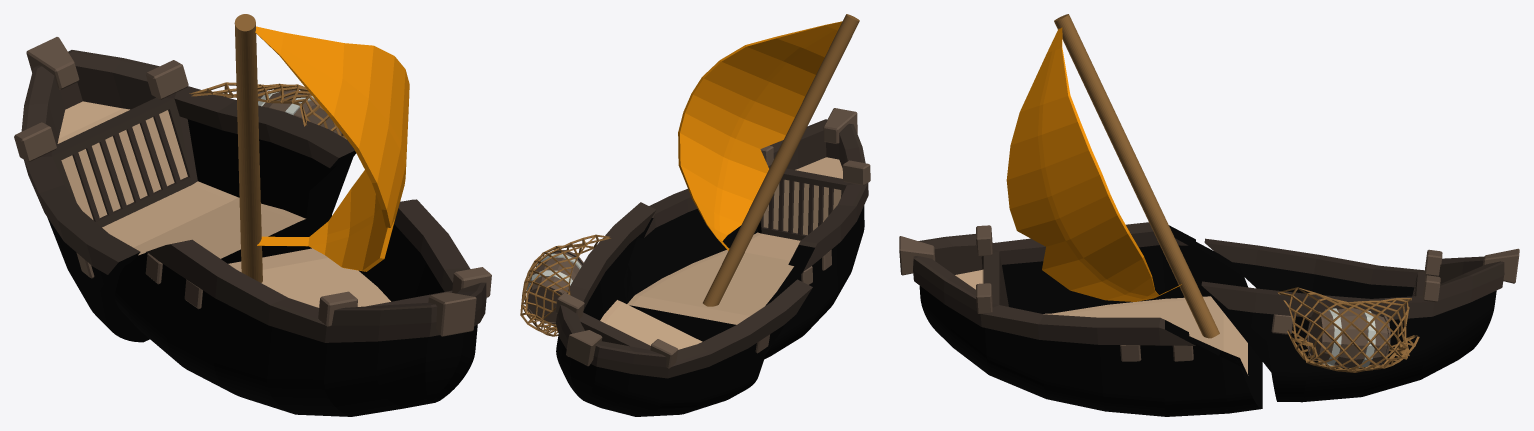
File: Boat_leaf_broken.fbx
3 renders of one model, left to right at view 1: azimuth 30°, elevation 25°; view 2: azimuth 150°, elevation 25°; view 3: azimuth 270°, elevation 25°, orthographic. The views are drawn at different scales.
Visible parts, largest first — view 1: Boat.034; view 2: Boat.034; view 3: Boat.034.
Boxes of the visible parts, x1,y1,x2,y2 form: Boat.034: (14, 14, 491, 416); Boat.034: (520, 14, 870, 416); Boat.034: (899, 14, 1519, 416).
Size of the model in its own units: 404 by 548 by 900.
